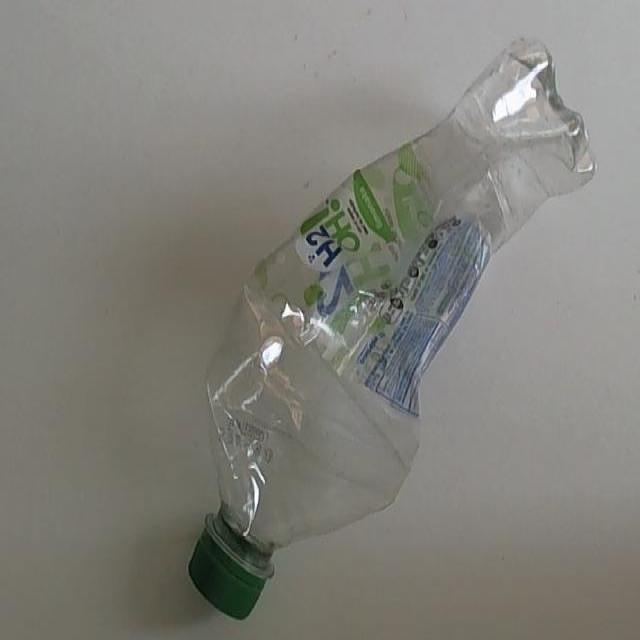defect: (184, 32, 599, 624)
